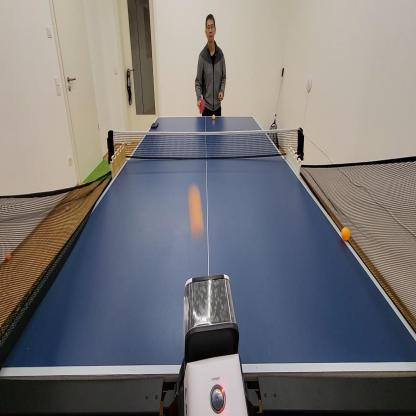Ball: (186, 181, 205, 240), (340, 224, 351, 242), (5, 251, 13, 263), (64, 204, 70, 214), (211, 112, 217, 121)
